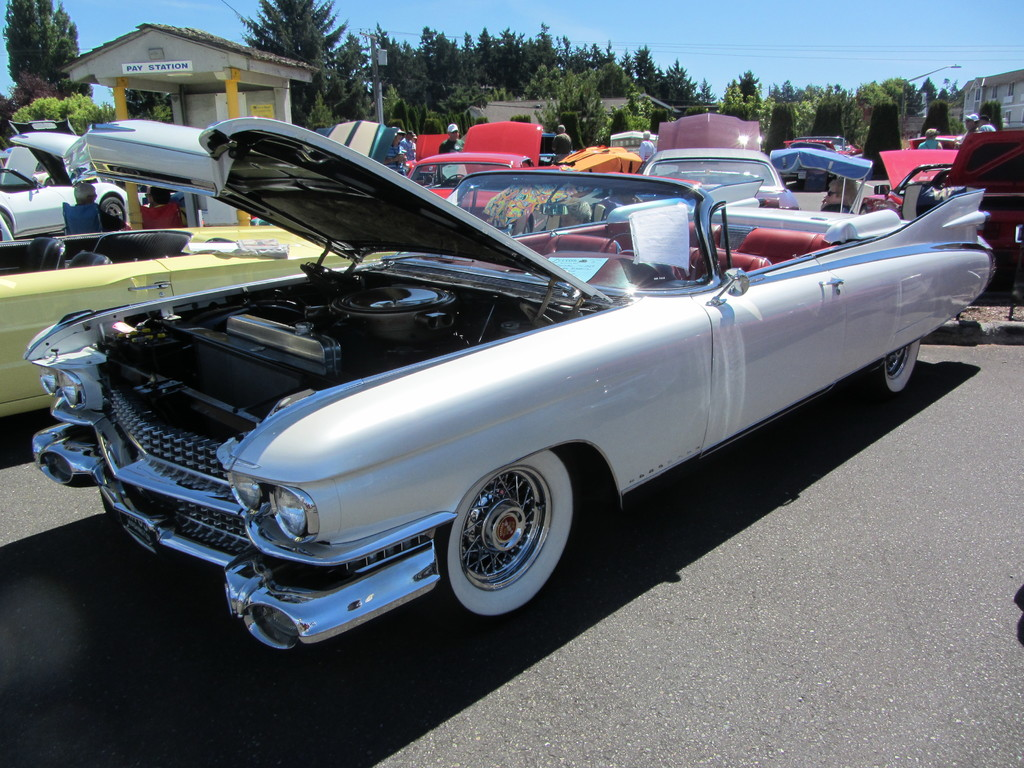Car: (0, 117, 1023, 419)
